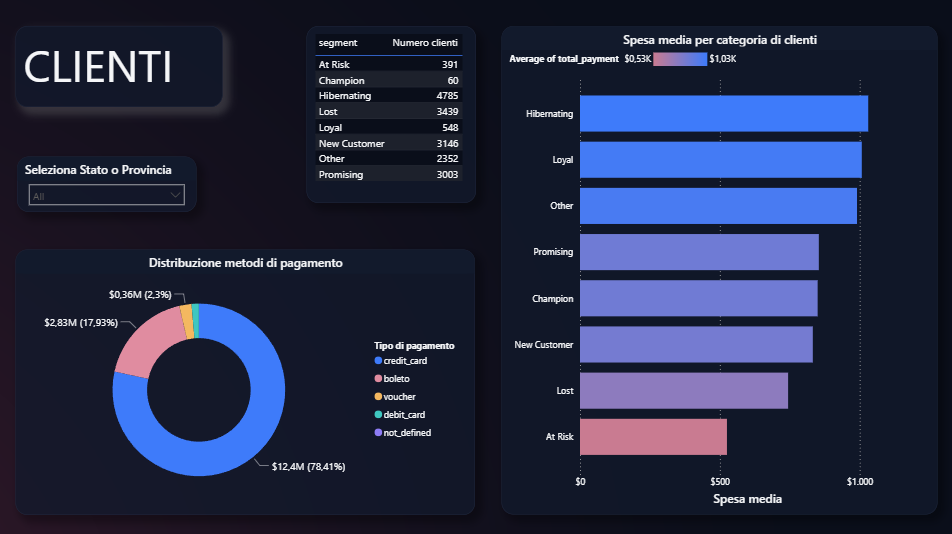

The page's visual inventory and layout, read from the dashboard file:
{"tool":"powerbi","page":{"name":"Clienti","canvas":[1280,720],"ordinal":1},"visuals":[{"type":"clusteredBarChart","title":"Spesa media per categoria di clienti","fields":{"Category":["customers.segment"],"Y":["Avg(customers.total_payment)"]},"box":[673.2,35.9,581.6,651.3],"z":0},{"type":"pieChart","title":"Distribuzione metodi di pagamento","fields":{"Category":["customers.payment_type"],"Y":["Sum(customers.total_payment)"]},"box":[26.8,333.2,612.6,353.7],"z":1000},{"type":"slicer","title":"Seleziona Stato o Provincia","fields":{"Values":["customers.customer_state Hierarchy.customer_state","customers.customer_state Hierarchy.customer_city"]},"box":[27.3,210.5,239.2,74.2],"z":2000},{"type":"tableEx","fields":{"Values":["customers.segment","customers.Numero clienti"]},"box":[412,48,226,236],"z":3000},{"type":"textbox","box":[26,36,276,108],"z":4000}]}

Visuals, with their boxes in screenshot pixels (x1, y1, x2, y2), scaled from the page's 1280x720 canvas onto the 952x534 screenshot:
"Spesa media per categoria di clienti" clusteredBarChart: BBox(501, 27, 933, 510)
"Distribuzione metodi di pagamento" pieChart: BBox(20, 247, 476, 509)
"Seleziona Stato o Provincia" slicer: BBox(20, 156, 198, 211)
tableEx - customers.segment x customers.Numero clienti: BBox(306, 36, 475, 211)
textbox: BBox(19, 27, 225, 107)
